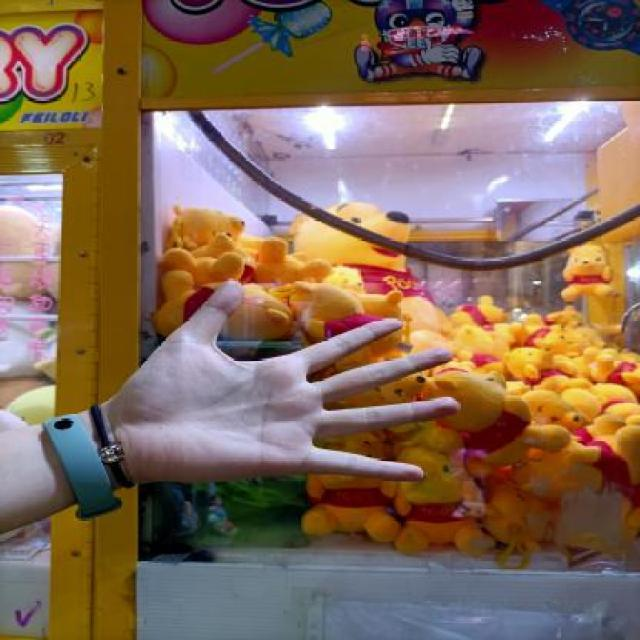bare_hand: (61, 260, 472, 522)
